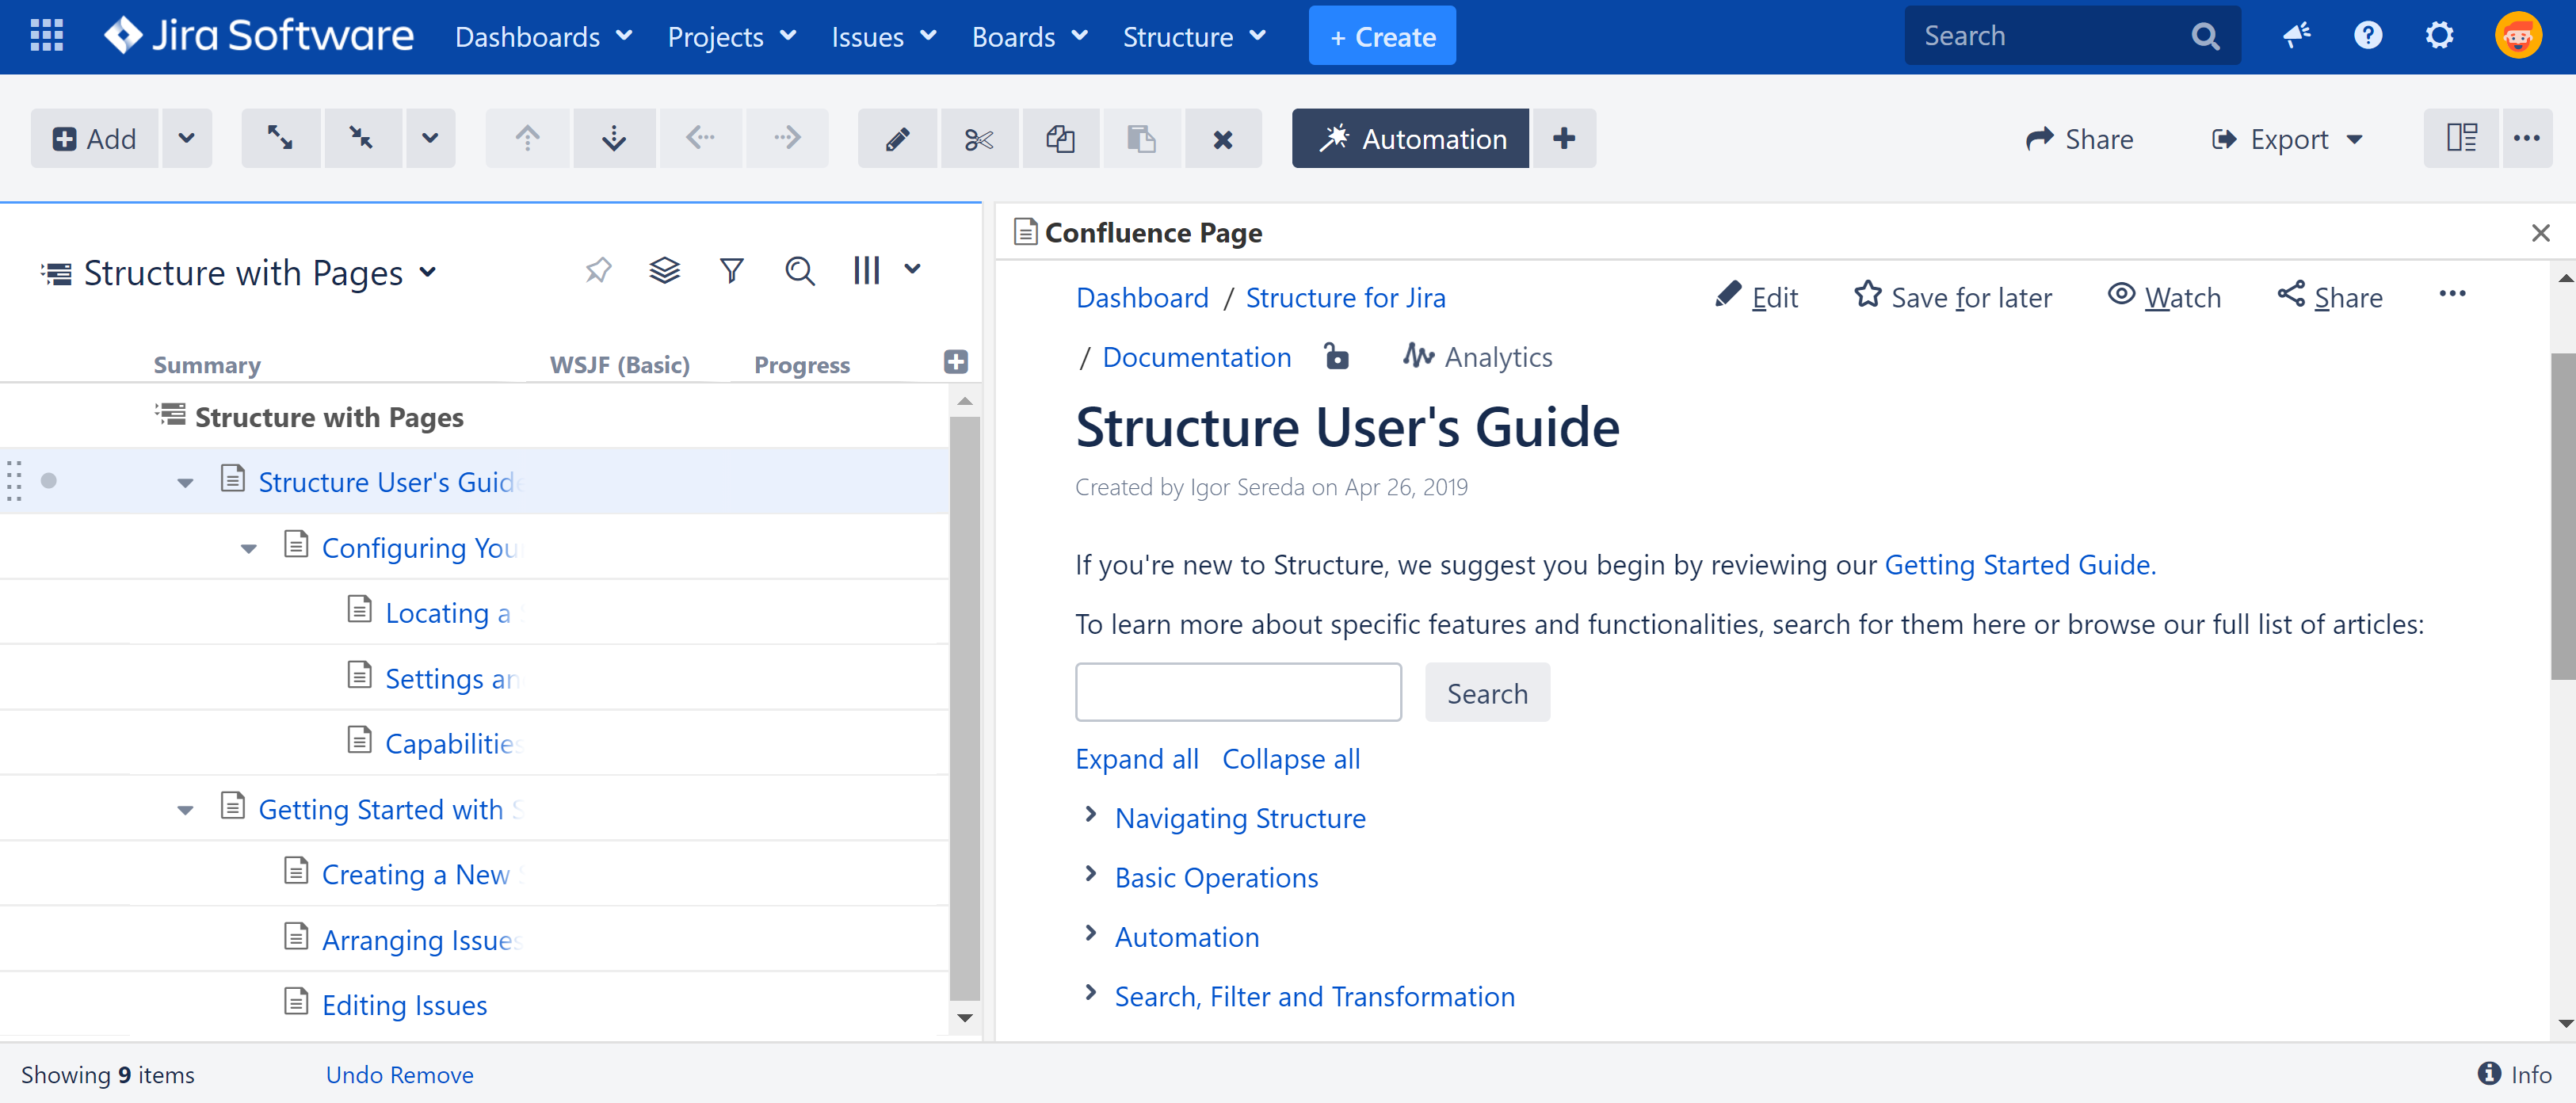button_create: (1309, 3, 1464, 66)
search_box: (1904, 5, 2249, 72)
